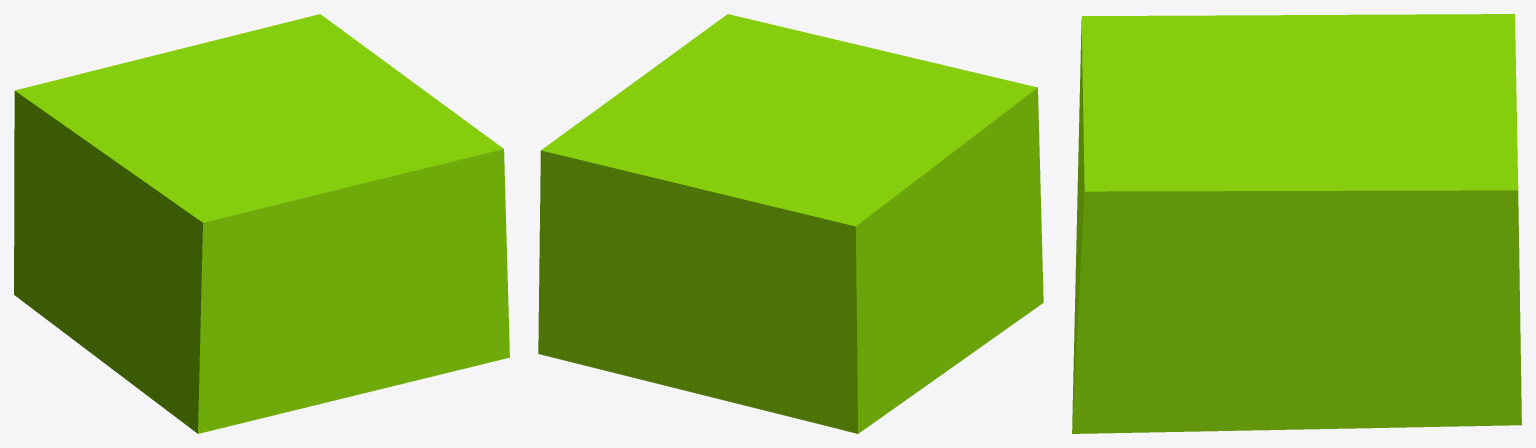
The model's file is Wall_Stone_01_B_Half.fbx.
3 views of the same model, side by side, from view 1: azimuth 30°, elevation 25°; view 2: azimuth 150°, elevation 25°; view 3: azimuth 270°, elevation 25° (orthographic). The views are drawn at different scales.
Parts seen in each view (by area): view 1: Wall_Stone_01_B_Half; view 2: Wall_Stone_01_B_Half; view 3: Wall_Stone_01_B_Half.
Boxes of the visible parts, left/top/right/bottom form: Wall_Stone_01_B_Half: left=14, top=14, right=509, bottom=433; Wall_Stone_01_B_Half: left=538, top=14, right=1043, bottom=433; Wall_Stone_01_B_Half: left=1072, top=14, right=1521, bottom=433.
Bounding box in the file's own units: 137 × 89.02 × 146.
